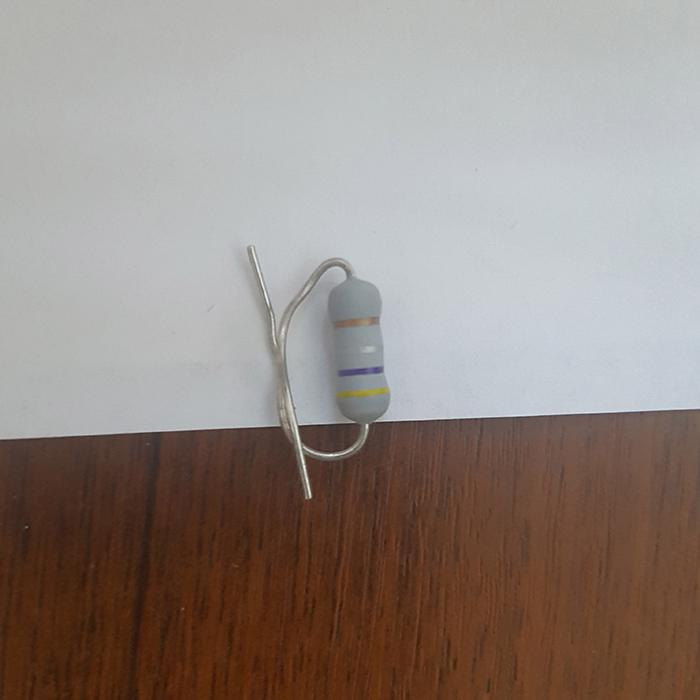resistor: (327, 275, 392, 421)
